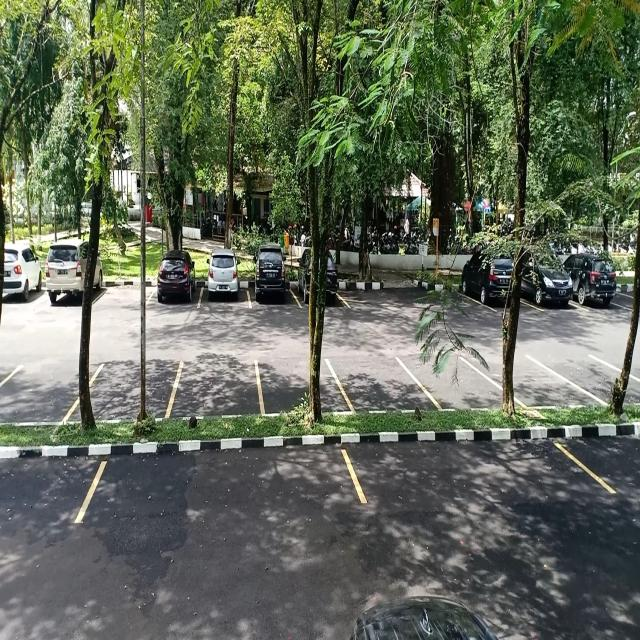empty: (78, 437, 364, 526), (348, 426, 603, 509), (0, 362, 96, 426), (90, 356, 180, 421), (170, 356, 261, 416), (334, 355, 419, 417), (255, 356, 339, 414), (418, 356, 498, 412), (511, 354, 582, 412), (95, 268, 151, 310)
occupied: (45, 241, 104, 309), (461, 247, 511, 312), (198, 250, 252, 310), (248, 247, 297, 310), (148, 253, 202, 310)
